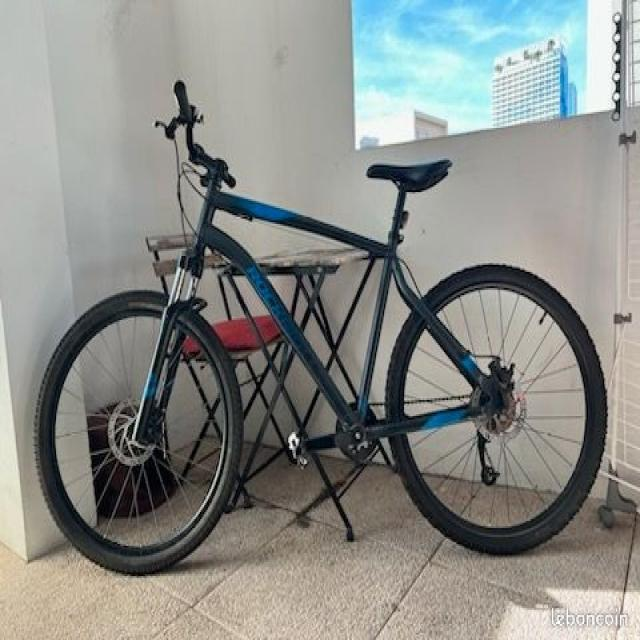Bike: (40, 80, 604, 572)
